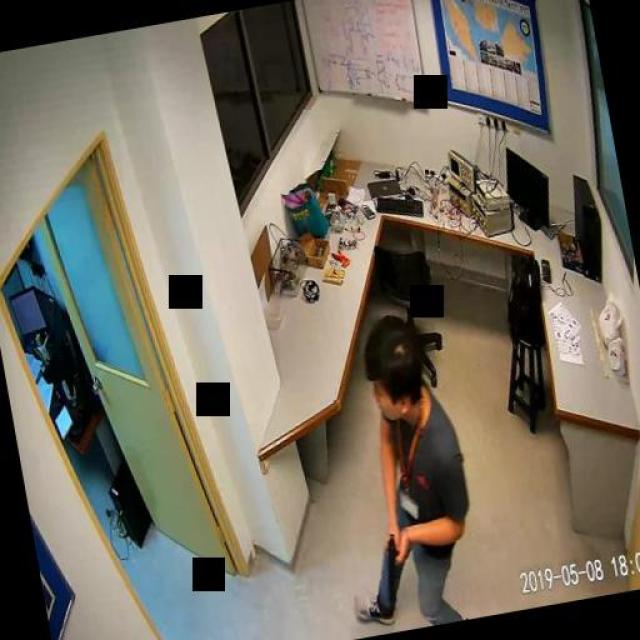gun: (374, 530, 406, 614)
